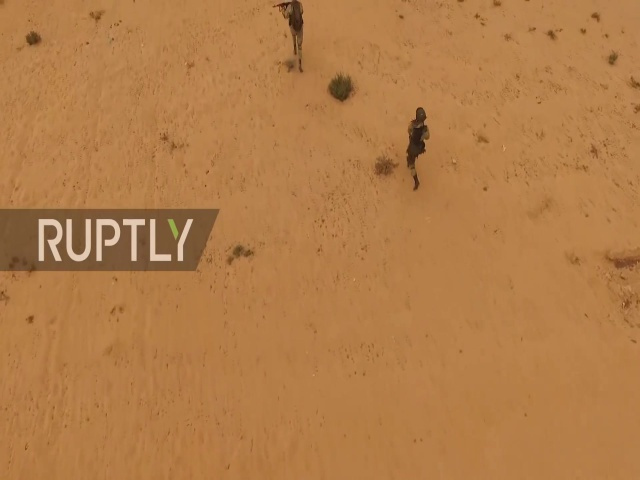person: (276, 1, 313, 78), (403, 107, 428, 190)
